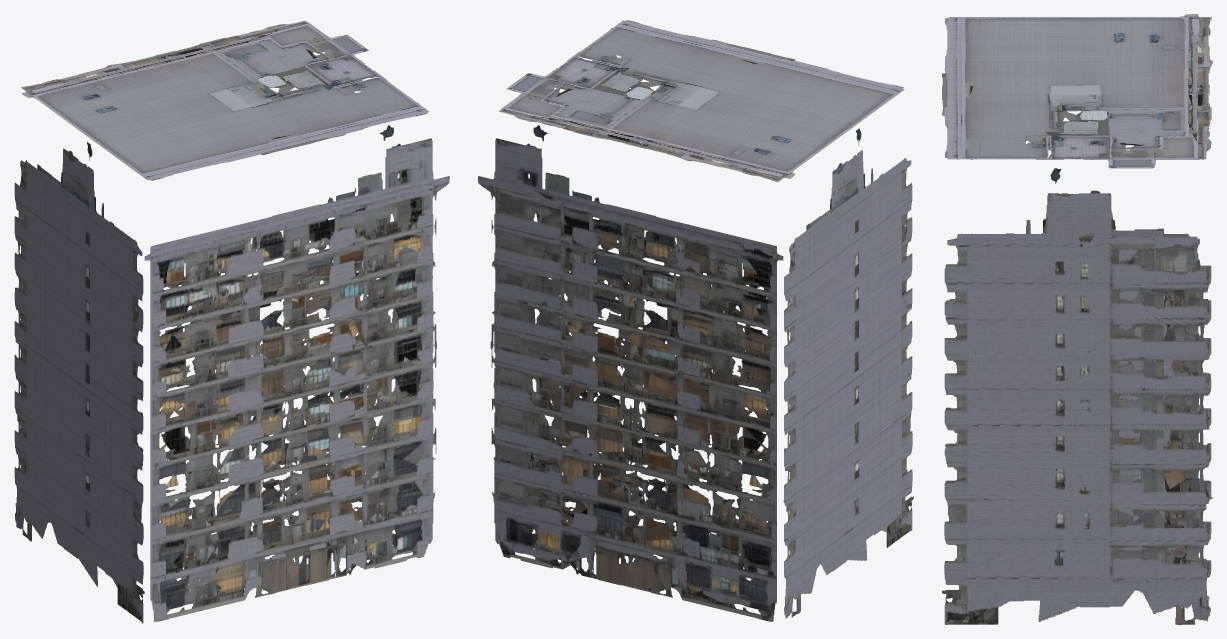
The model's file is city_apartment.1.glb.
3 views of the same model, side by side, from view 1: azimuth 30°, elevation 25°; view 2: azimuth 150°, elevation 25°; view 3: azimuth 270°, elevation 25° (orthographic). The views are drawn at different scales.
Visible parts, largest first — view 1: lod; view 2: lod; view 3: lod.
Part boxes in pixels (bbox=[...]): lod: bbox=[14, 20, 449, 623]; lod: bbox=[478, 20, 913, 621]; lod: bbox=[942, 14, 1212, 624].
Size of the model in its own units: 0.7095 by 0.9797 by 0.5265.
Materials: 1 (1 with a texture image).
